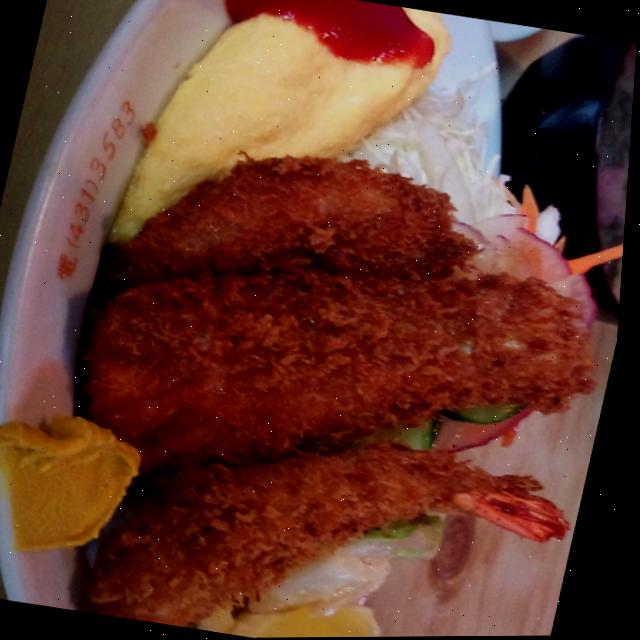牛肉菜式: (49, 91, 635, 640)
